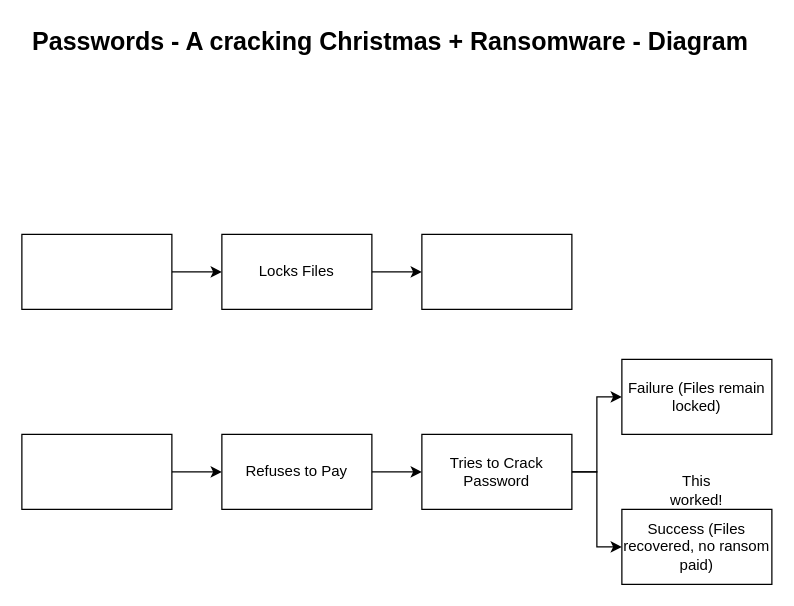
This 794x606 diagram has some shape labels left out. The centre of each missing label's shape, as x and y in pixels:
"Asks for Bitcoin" belongs at point 496,271.
"Attacker" belongs at point 96,271.
"Victim" belongs at point 96,471.
